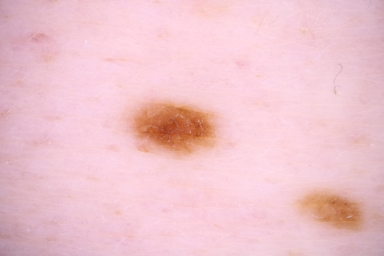melanoma: (134, 102, 215, 160), (294, 193, 363, 231)
